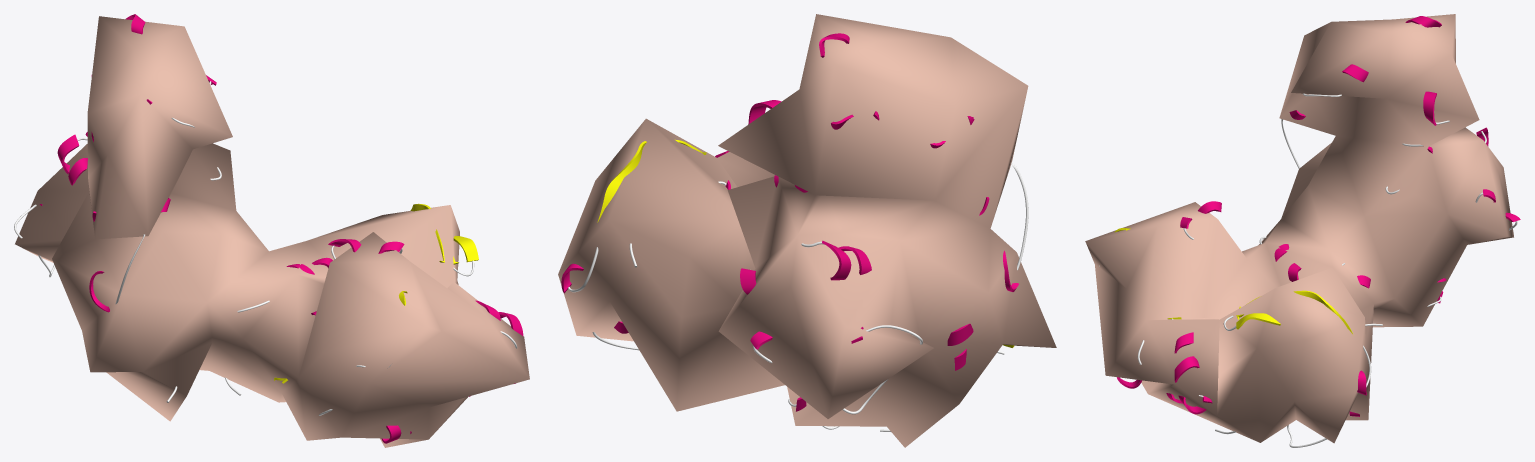
Rendered from gs-alpha with adenylyl cyclase-coarse.fbx.
3 renders of one model, left to right at view 1: azimuth 30°, elevation 25°; view 2: azimuth 150°, elevation 25°; view 3: azimuth 270°, elevation 25°, orthographic. The views are drawn at different scales.
Parts seen in each view (by area): view 1: CoarseMS_1azs, 1azs_C_Helix11; view 2: CoarseMS_1azs, 1azs_C_Helix11, 1azs_B_Strand7, 1azs_C_Helix15; view 3: CoarseMS_1azs, 1azs_A_Helix1, 1azs_C_Helix3, 1azs_C_Helix2.
Boxes of the visible parts, x1=… form: CoarseMS_1azs: x1=15, y1=16, x2=529, y2=447; 1azs_C_Helix11: x1=57, y1=134, x2=87, y2=185; CoarseMS_1azs: x1=558, y1=14, x2=1056, y2=447; 1azs_C_Helix11: x1=822, y1=240, x2=871, y2=280; 1azs_B_Strand7: x1=597, y1=139, x2=706, y2=222; 1azs_C_Helix15: x1=947, y1=323, x2=973, y2=370; CoarseMS_1azs: x1=1085, y1=14, x2=1513, y2=443; 1azs_A_Helix1: x1=1174, y1=332, x2=1199, y2=382; 1azs_C_Helix3: x1=1342, y1=16, x2=1441, y2=82; 1azs_C_Helix2: x1=1289, y1=91, x2=1436, y2=125.
Bounding box in the file's own units: 77.21 × 72.85 × 85.41.
